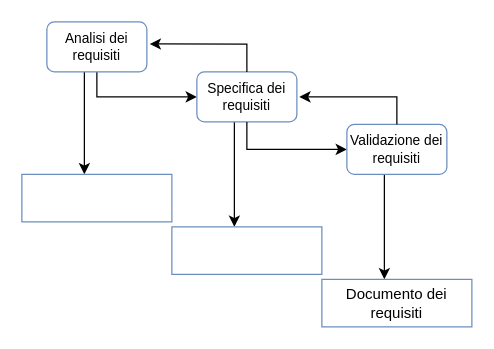
The diagram is 494 pixels wide and 349 high, and some of its shapes have lost their labels. Here are the shapes that lost their labels. From the top down, the centre of each, then its label:
the point at 96,197: Descrizione del sistema
the point at 246,250: Requisiti del sistema e dell'utente
